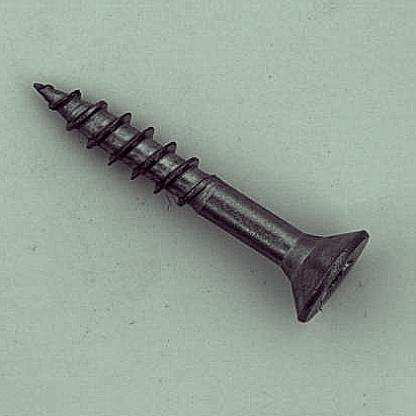metal: (30, 78, 372, 324)
